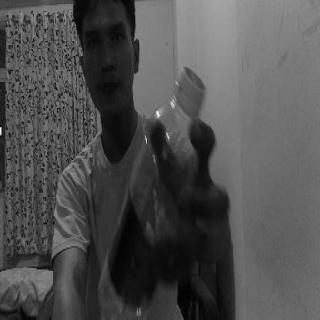plastic_bottles: (102, 69, 206, 318)
